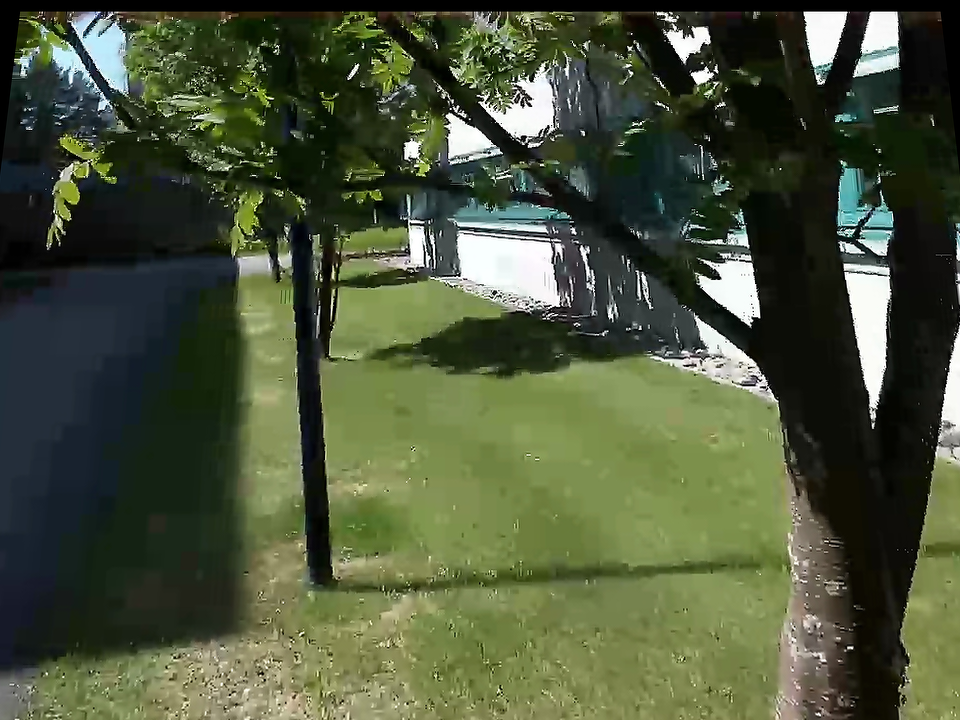branch: (375, 154, 557, 229)
trunk: (634, 13, 952, 373), (767, 249, 957, 537), (754, 390, 914, 715)
